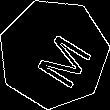M_NW: (20, 21, 87, 86)
